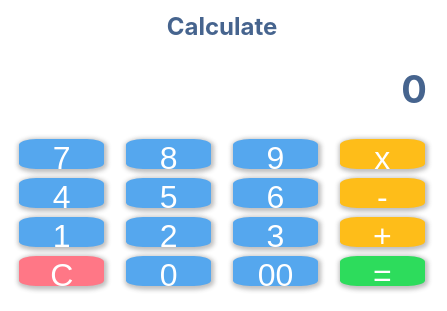
Test: When an operation is typed after an operation › calculates the operation and shows the result
# Simulacion de operacion: (5x5)-7
Click the button "5" at (169, 193), box [126,178,211,208]
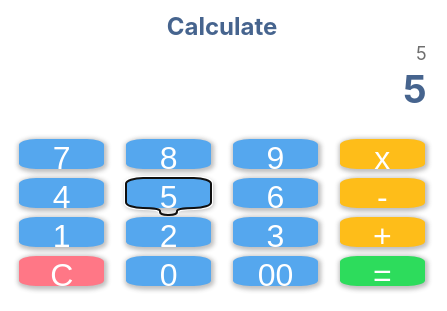
Click the button "x" at (382, 154), box [340,139,425,169]
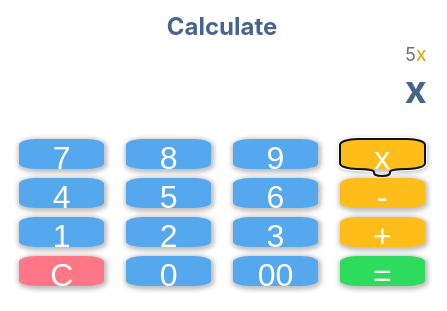
Click the button "5" at (169, 193), box [126,178,211,208]
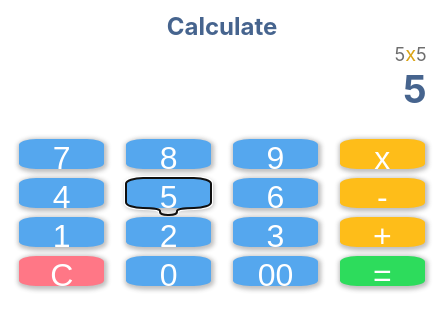
Click the button "-" at (382, 193), box [340,178,425,208]
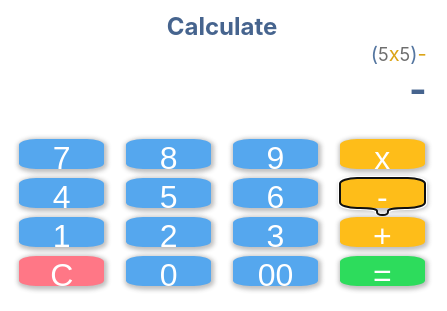
Click the button "7" at (62, 154), box [19,139,104,169]
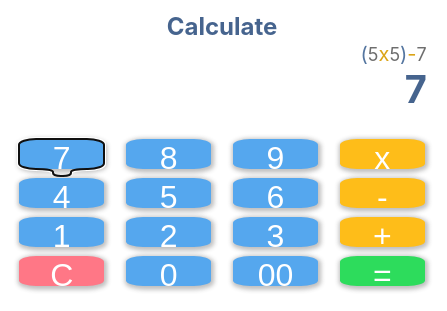
Click the button "=" at (382, 271), box [340,256,425,286]
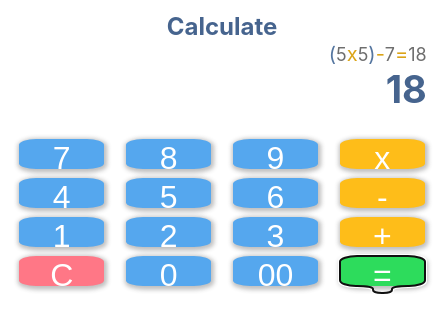
Expected: the heading "0" reads "18", [386,66,427,112]
